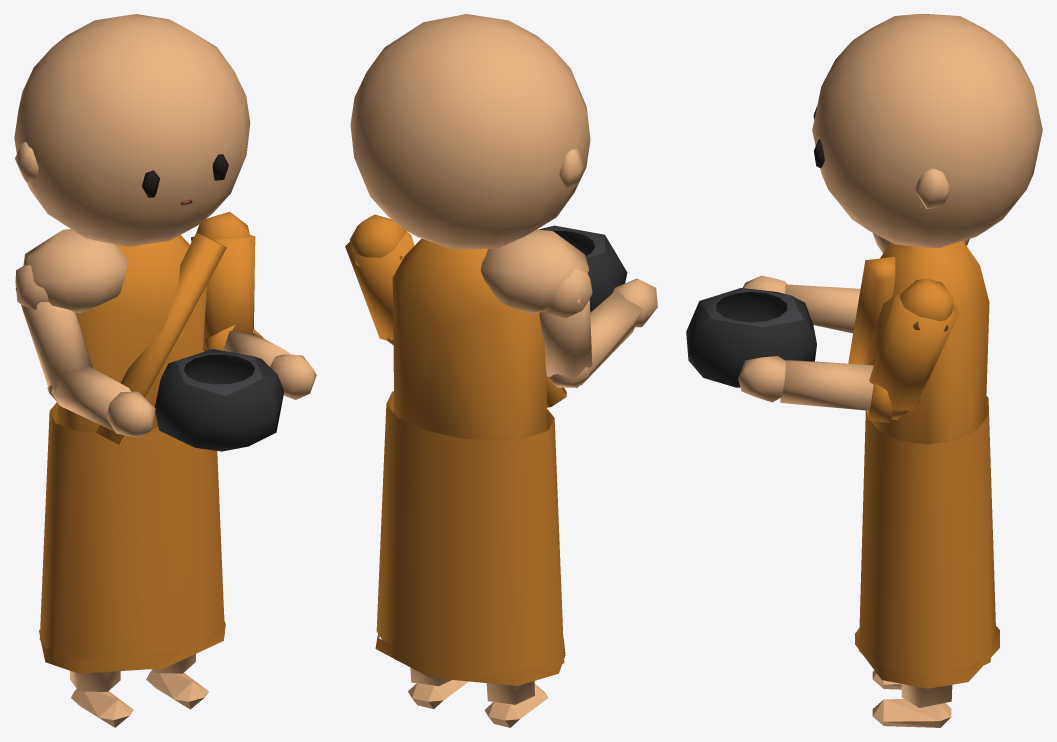
Rendered from monk.glb.
3 views of the same model, side by side, from view 1: azimuth 30°, elevation 25°; view 2: azimuth 150°, elevation 25°; view 3: azimuth 270°, elevation 25° (orthographic).
Parts seen in each view (by area): view 1: body, head, prop_alms_bowl, arm_L, arm_R, forearm_R, forearm_L, shin_R, shin_L; view 2: body, head, arm_R, arm_L, forearm_R, prop_alms_bowl, shin_R, shin_L; view 3: body, head, prop_alms_bowl, arm_L, forearm_L, forearm_R, shin_L.
Part boxes in pixels (x1,y1,x2,y2): body: (23,229,226,673); head: (14,14,250,246); prop_alms_bowl: (154,349,284,451); arm_L: (191,211,255,351); arm_R: (15,265,92,407); forearm_R: (49,365,155,437); forearm_L: (205,325,316,399); shin_R: (69,670,133,727); shin_L: (146,654,208,709); body: (375,229,588,685); head: (350,14,590,249); arm_R: (539,268,592,387); arm_L: (345,214,414,345); forearm_R: (546,278,657,385); prop_alms_bowl: (538,225,627,312); shin_R: (484,681,548,727); shin_L: (408,667,468,709); body: (848,233,999,688); head: (812,14,1042,248); prop_alms_bowl: (686,288,816,387); arm_L: (869,278,959,419); forearm_L: (738,356,918,422); forearm_R: (743,275,860,333); shin_L: (872,684,952,727).
Size of the model in its own units: 0.5238 by 1.46 by 0.6905.
